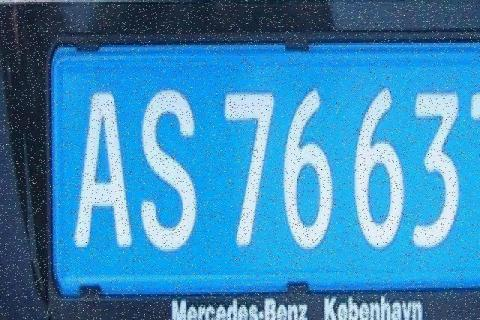LicensePlate: (47, 32, 480, 293)
